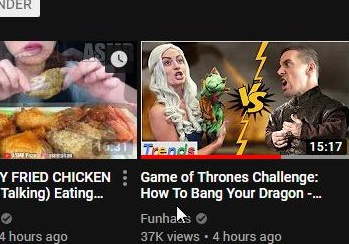cursor: (175, 205, 188, 224)
